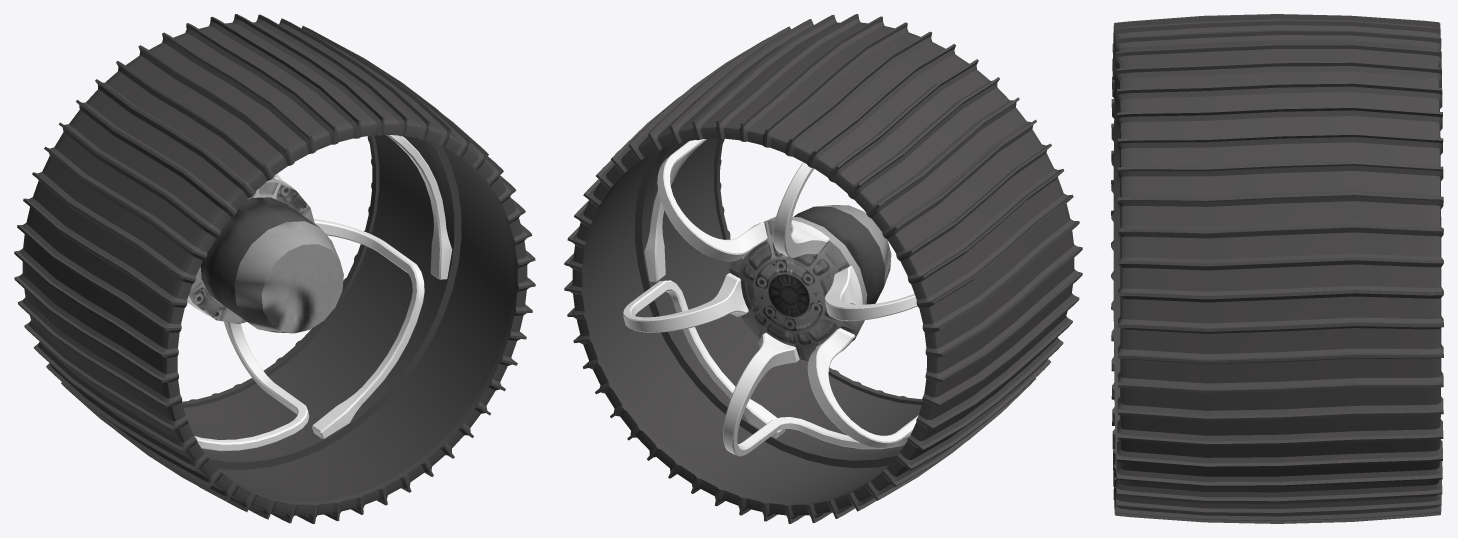
The model's file is SMCE-wheel.glb.
3 renders of one model, left to right at view 1: azimuth 30°, elevation 25°; view 2: azimuth 150°, elevation 25°; view 3: azimuth 270°, elevation 25°, orthographic. The views are drawn at different scales.
Visible parts, largest first — view 1: Wheels_objs.002; view 2: Wheels_objs.002; view 3: Wheels_objs.002.
Part boxes in pixels (left/top/right/bottom): Wheels_objs.002: left=14, top=14, right=535, bottom=523; Wheels_objs.002: left=564, top=14, right=1082, bottom=523; Wheels_objs.002: left=1111, top=14, right=1443, bottom=523.
Size of the model in its own units: 0.5249 by 0.525 by 0.3432.
3 materials, 1 textured.
